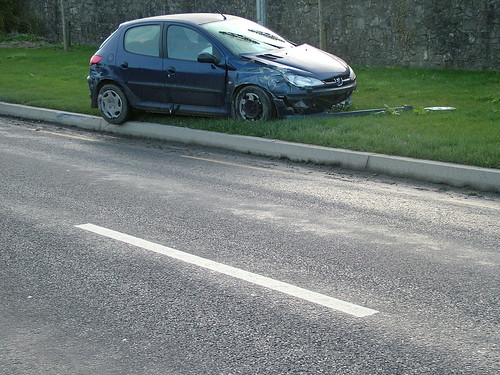car: (76, 8, 367, 130)
grass: (360, 65, 500, 167), (3, 43, 91, 113)
street: (1, 114, 500, 375)
